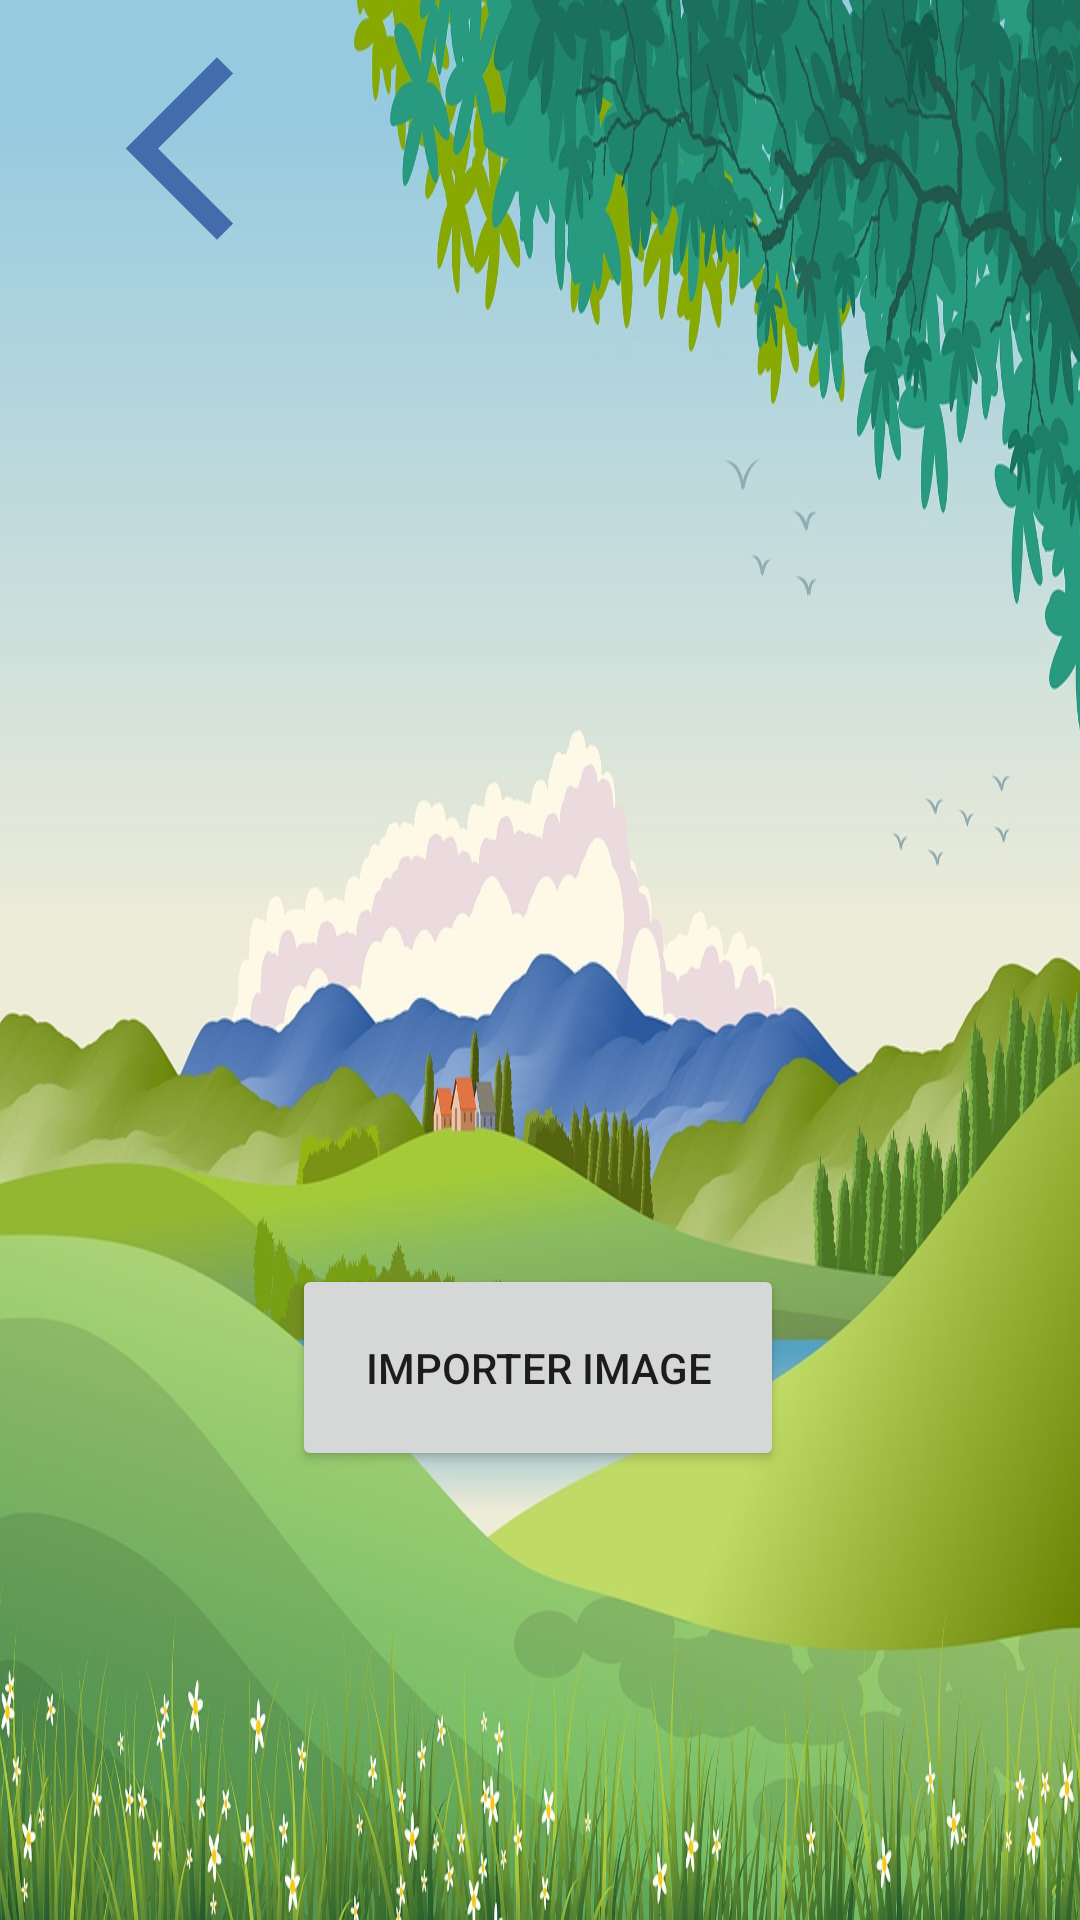

Icon bounding boxes for this 1080w x 1920h phone screenshot, format [left=x1, top=y1, right=x2, bottom=y2]:
arrow back: [left=126, top=57, right=233, bottom=239]
